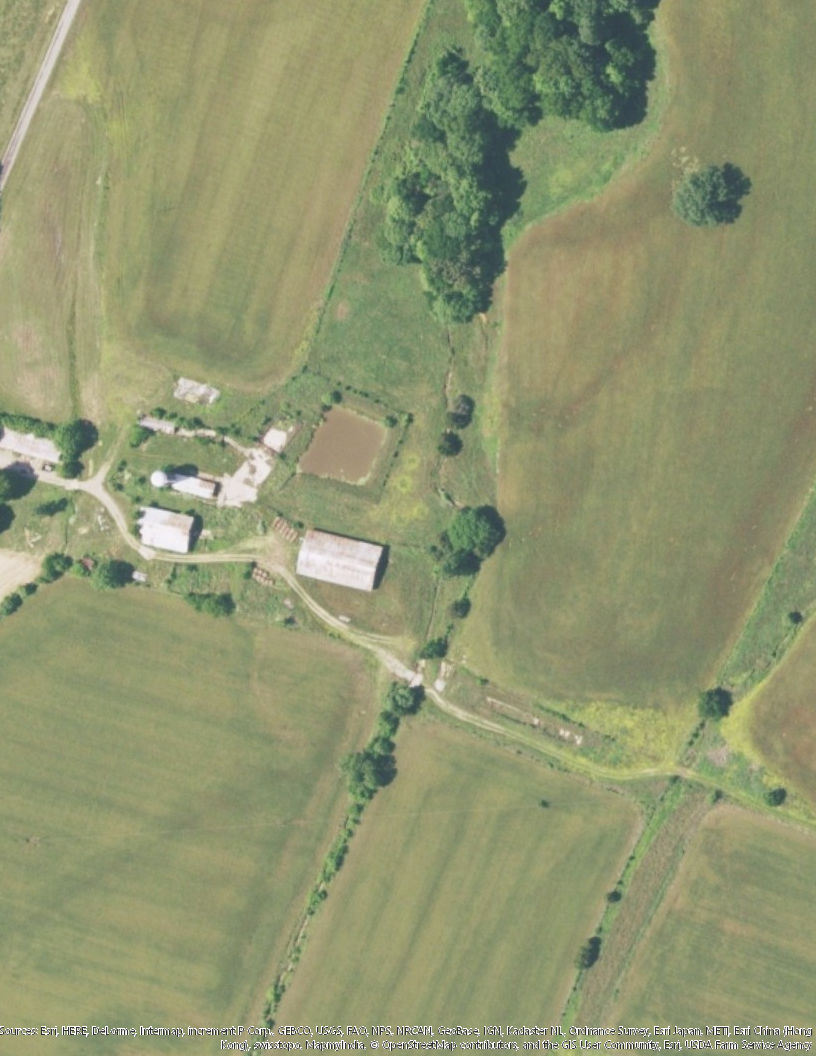cafo: (292, 526, 391, 595), (138, 503, 197, 552)
